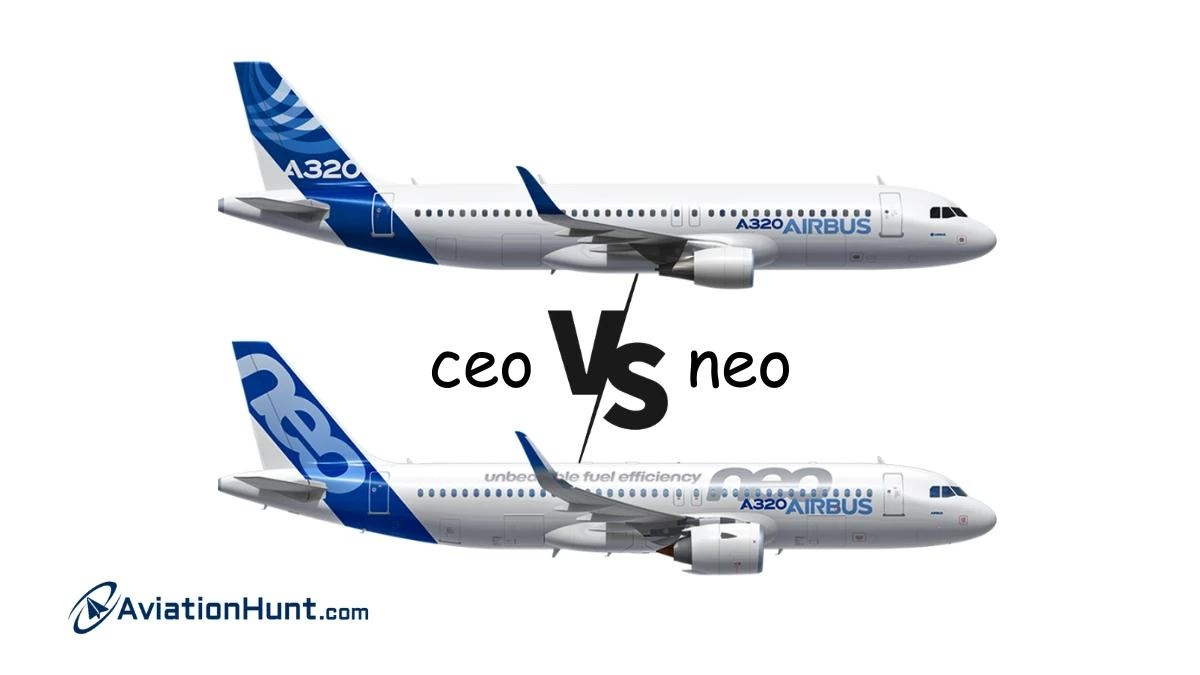aircraft: (217, 56, 1004, 290), (214, 342, 1000, 575)
